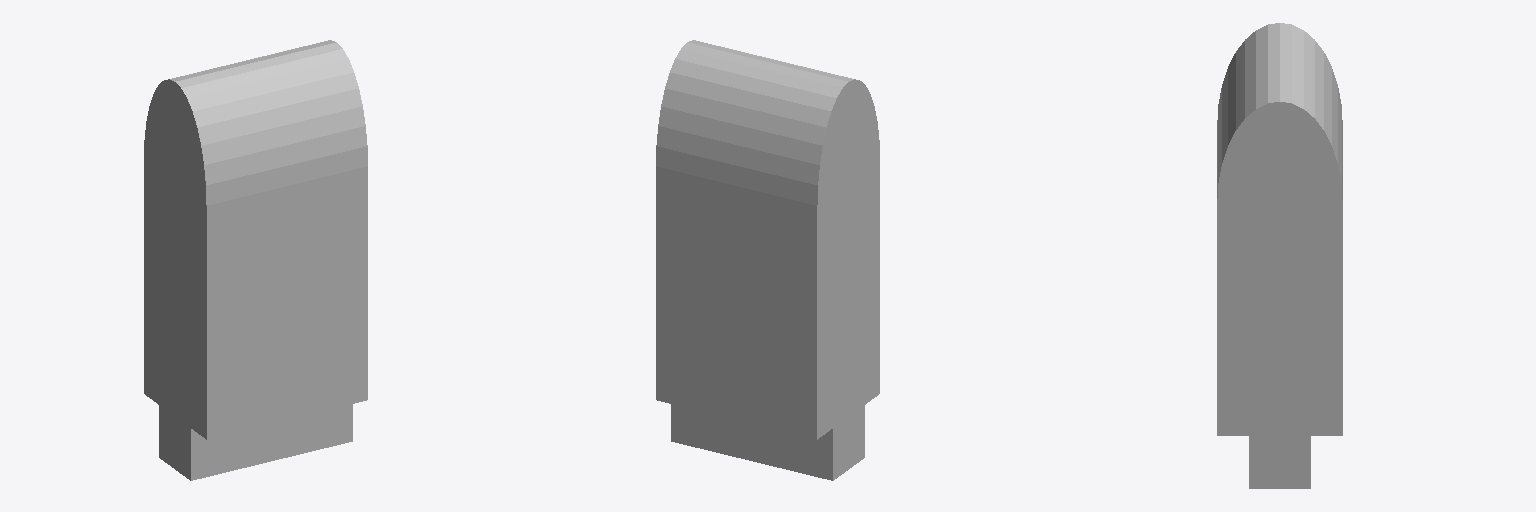
Rendered from body_l_dist_spring2vround2.obj.
The picture shows the model from 3 angles: view 1: azimuth 30°, elevation 25°; view 2: azimuth 150°, elevation 25°; view 3: azimuth 270°, elevation 25°; orthographic projection.
Visible parts, largest first — view 1: body_l_dist_spring2vround2_Cube.216; view 2: body_l_dist_spring2vround2_Cube.216; view 3: body_l_dist_spring2vround2_Cube.216.
Part boxes in pixels (x1,y1,x2,y2): body_l_dist_spring2vround2_Cube.216: (144,40,367,480); body_l_dist_spring2vround2_Cube.216: (656,40,879,480); body_l_dist_spring2vround2_Cube.216: (1217,23,1342,488).
Size of the model in its own units: 0.032 by 0.0733 by 0.0215.